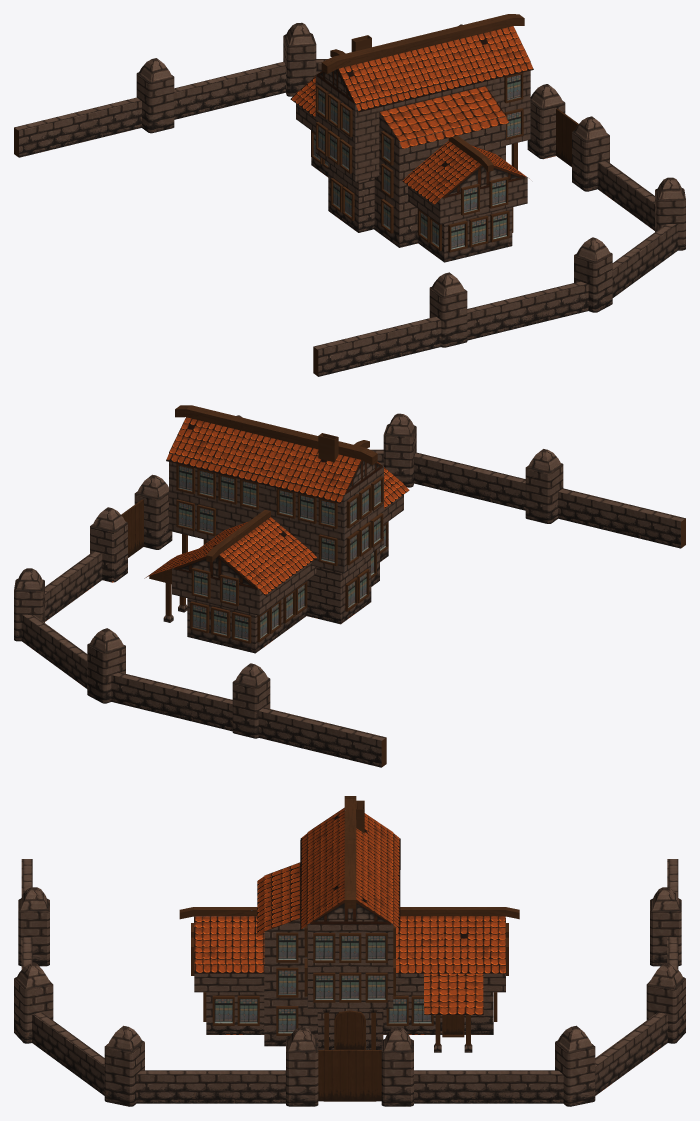
Rendered from MainBase_5.fbx.
3 views of the same model, one above another, from view 1: azimuth 30°, elevation 25°; view 2: azimuth 150°, elevation 25°; view 3: azimuth 270°, elevation 25° (orthographic). The views are drawn at different scales.
Parts seen in each view (by area): view 1: Cube.63; view 2: Cube.63; view 3: Cube.63.
Part boxes in pixels (<box>): Cube.63: <box>14,14,685,376</box>; Cube.63: <box>14,405,685,767</box>; Cube.63: <box>14,796,685,1106</box>.
Size of the model in its own units: 1747 by 703 by 2267.
Materials: 1 (1 with a texture image).
